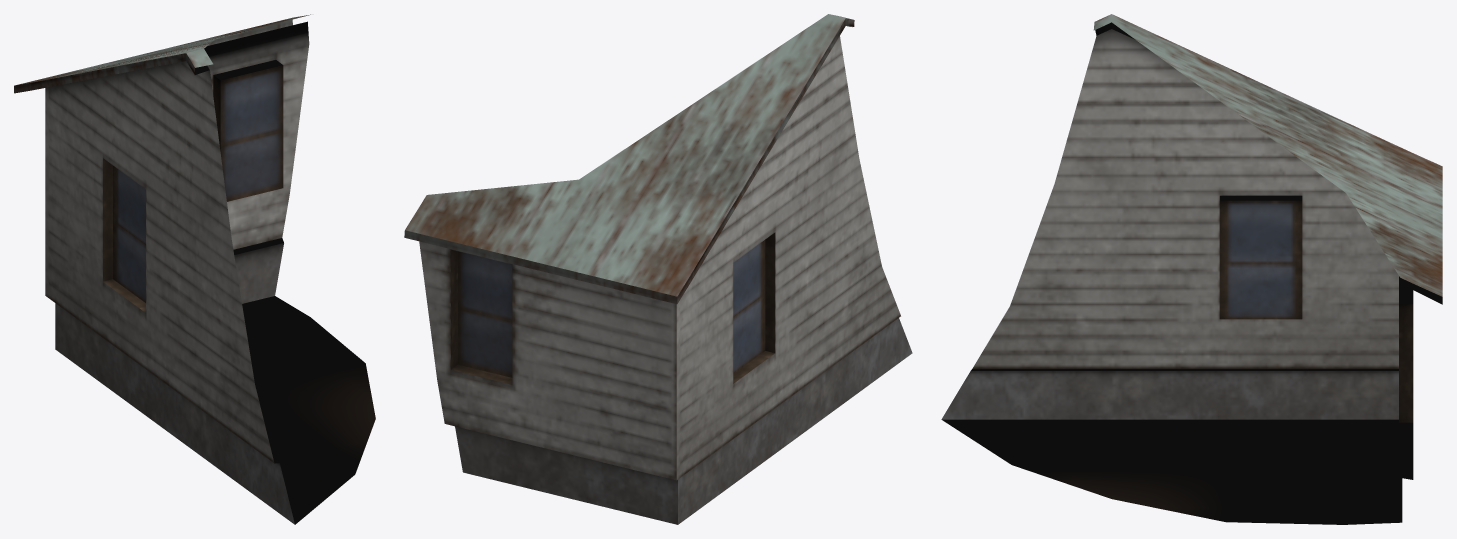
The model's file is House_02_04.fbx.
3 renders of one model, left to right at view 1: azimuth 30°, elevation 25°; view 2: azimuth 150°, elevation 25°; view 3: azimuth 270°, elevation 25°, orthographic. The views are drawn at different scales.
Parts seen in each view (by area): view 1: Object001.005; view 2: Object001.005; view 3: Object001.005.
Part boxes in pixels (bbox=[...]): Object001.005: bbox=[14, 14, 375, 524]; Object001.005: bbox=[404, 14, 912, 524]; Object001.005: bbox=[941, 14, 1442, 524].
Size of the model in its own units: 5.79 by 8.14 by 9.34.
1 material, 1 textured.
